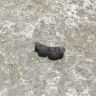Dog: (33, 41, 66, 61)
